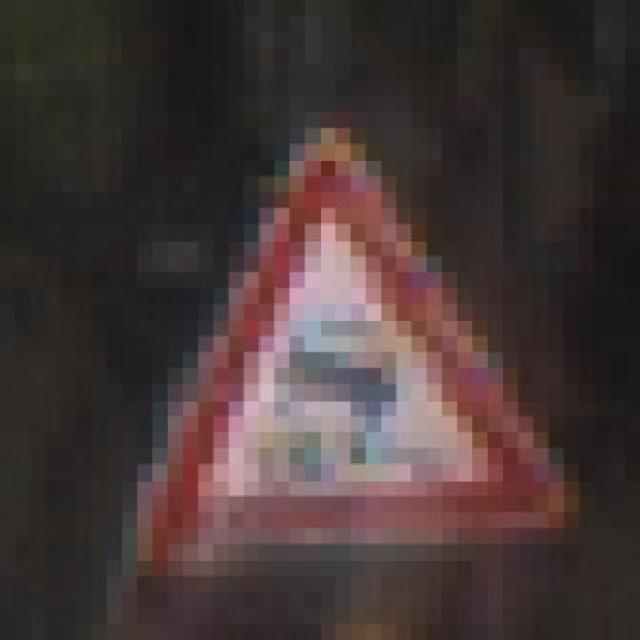Slippery Road Ahead: (107, 112, 579, 576)
